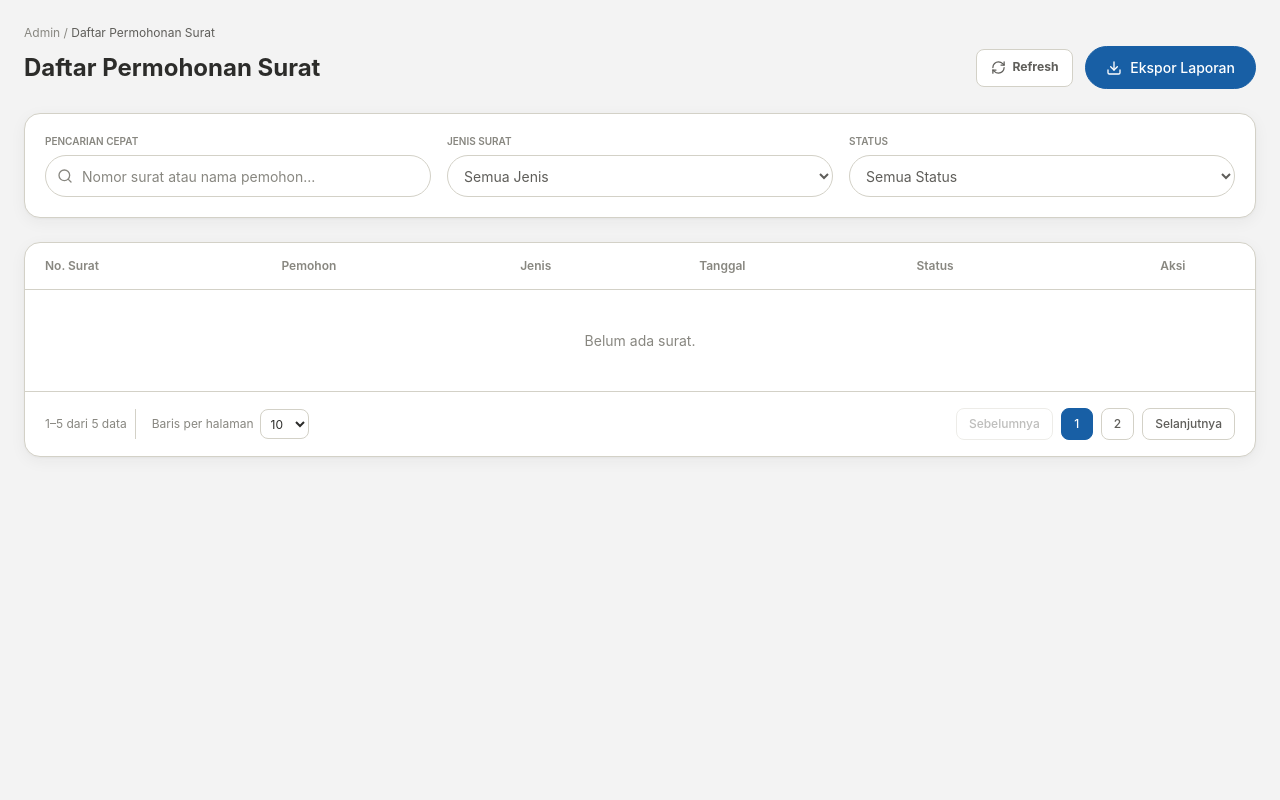
Test: OperatorSuratListPage export › shows the warning when the server reports an empty result
Click the button "Ekspor Laporan" at (1171, 68), box [1085, 46, 1256, 89]
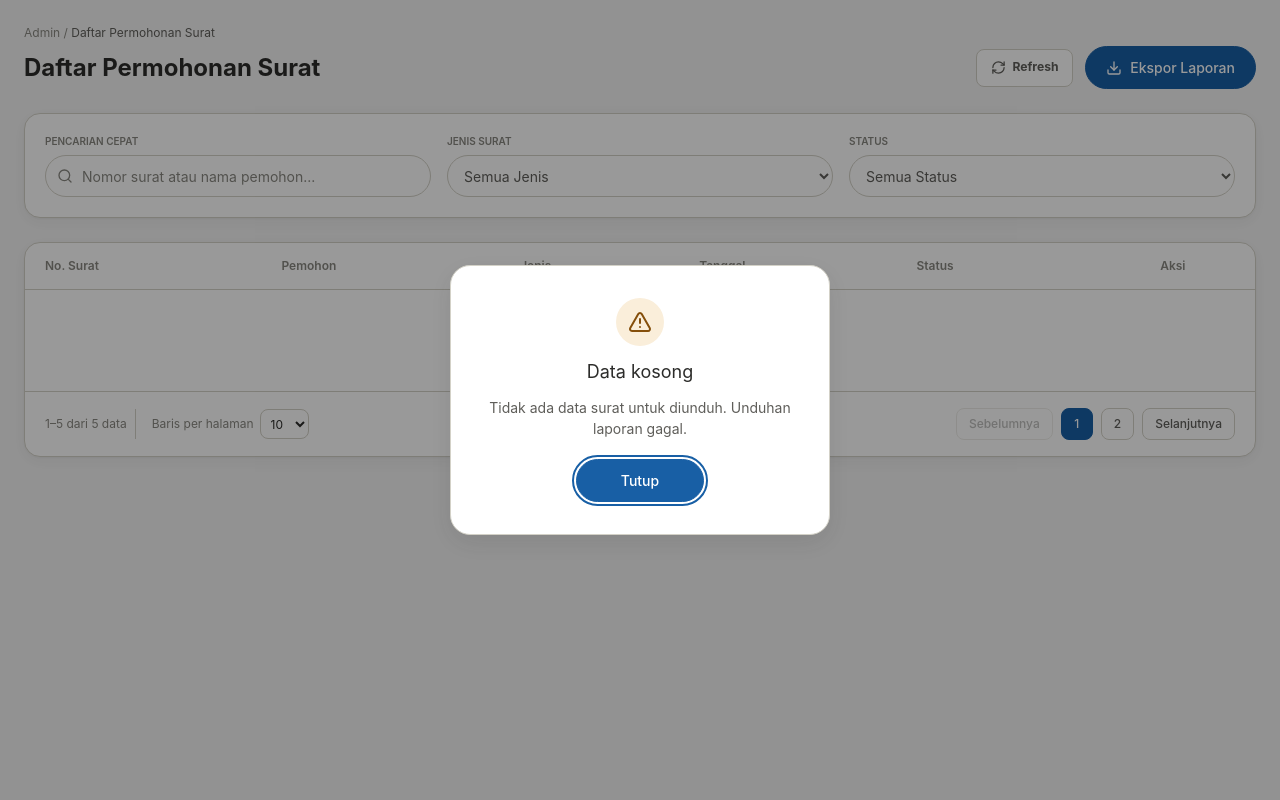
Result: the dialog "Data kosong" is shown at [450, 265, 830, 535]
